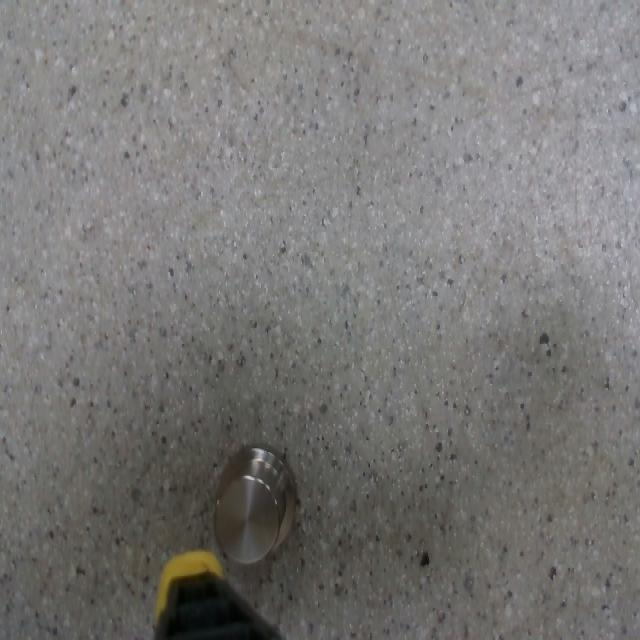sensor: (211, 443, 297, 565)
